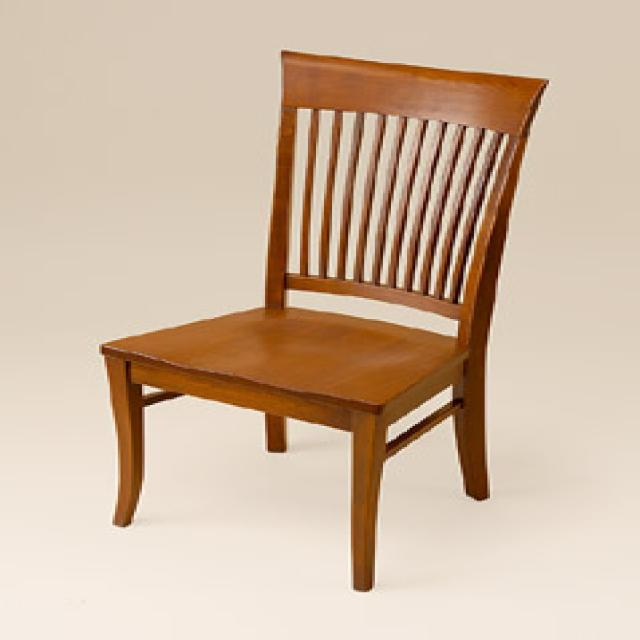chair: (98, 47, 552, 594)
